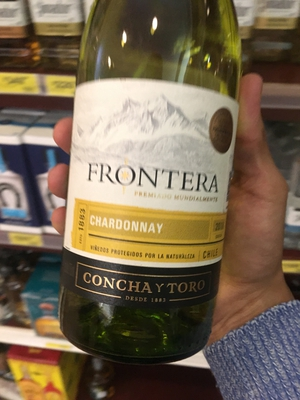frontera chardonnay: (60, 12, 241, 353)
